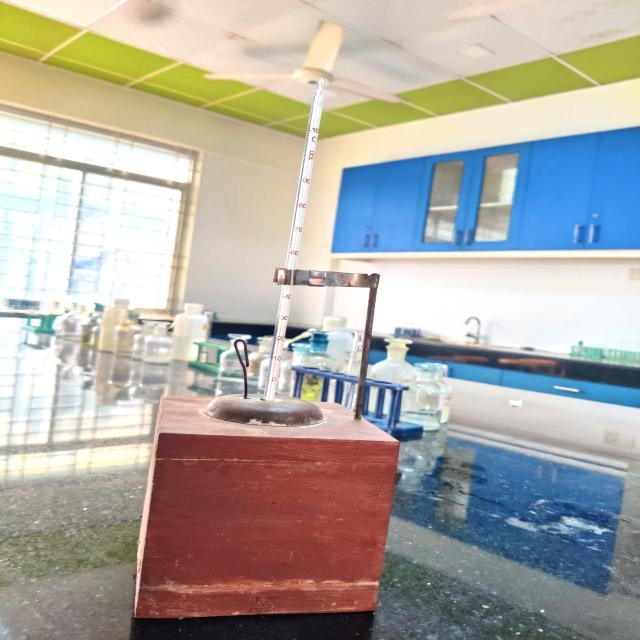Calorimeter: (109, 65, 440, 631)
